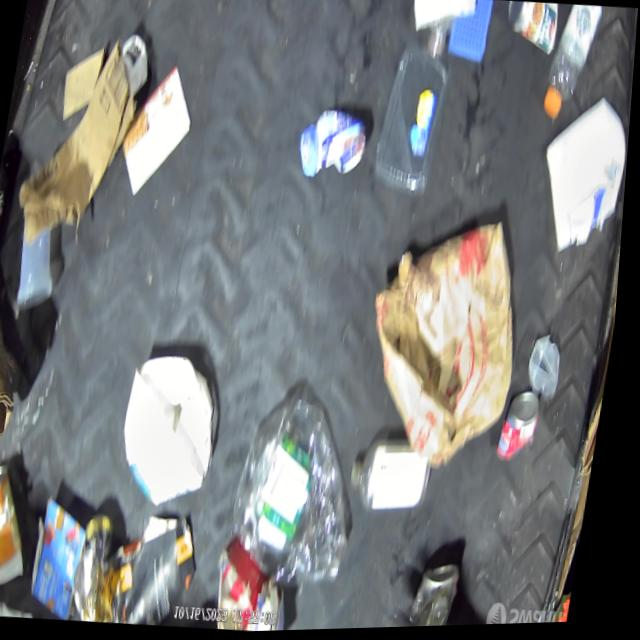can: (0, 460, 47, 591), (297, 105, 373, 184), (416, 563, 471, 629), (502, 2, 562, 61), (501, 392, 548, 467)
milk_jug: (118, 352, 232, 511), (534, 94, 634, 261)
